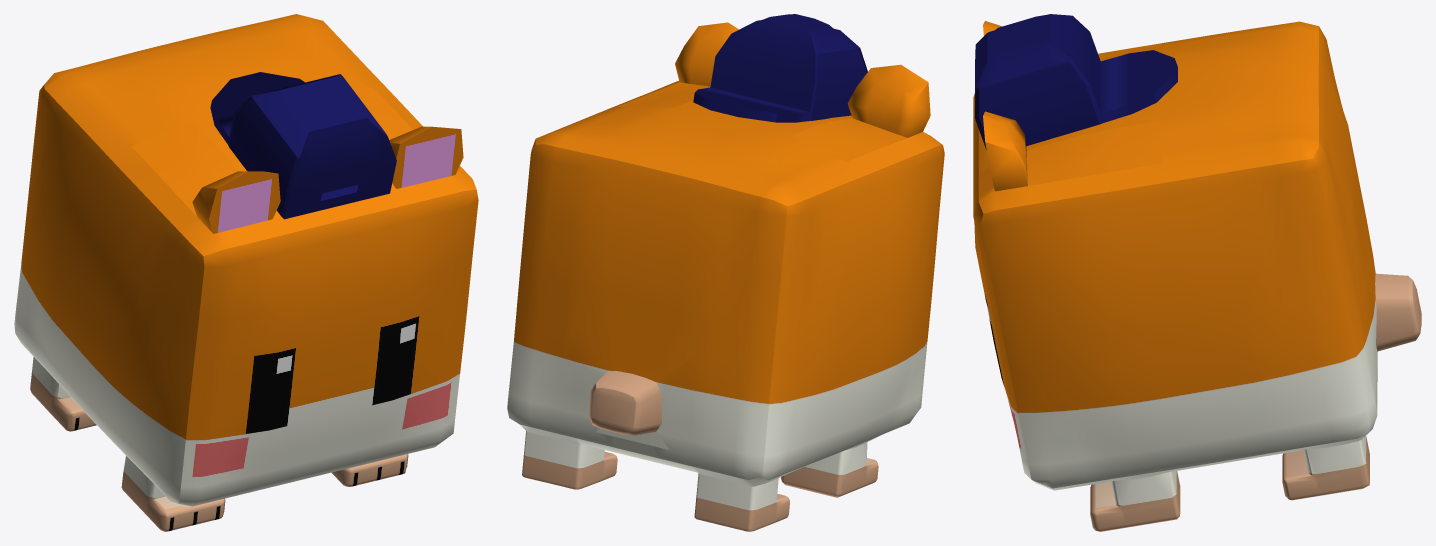
The model's file is CapBackRun.fbx.
3 renders of one model, left to right at view 1: azimuth 30°, elevation 25°; view 2: azimuth 150°, elevation 25°; view 3: azimuth 270°, elevation 25°, orthographic. The views are drawn at different scales.
Visible parts, largest first — view 1: CAP:pCube9; view 2: CAP:pCube9; view 3: CAP:pCube9.
Boxes of the visible parts, box(x1,y1,x2,y2) form: CAP:pCube9: box(14, 14, 478, 531); CAP:pCube9: box(507, 14, 944, 531); CAP:pCube9: box(973, 14, 1421, 531).
Bounding box in the file's own units: 4.23 × 5.64 × 5.13.
